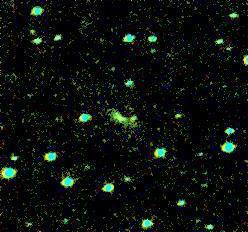star: (19, 15, 49, 45)
